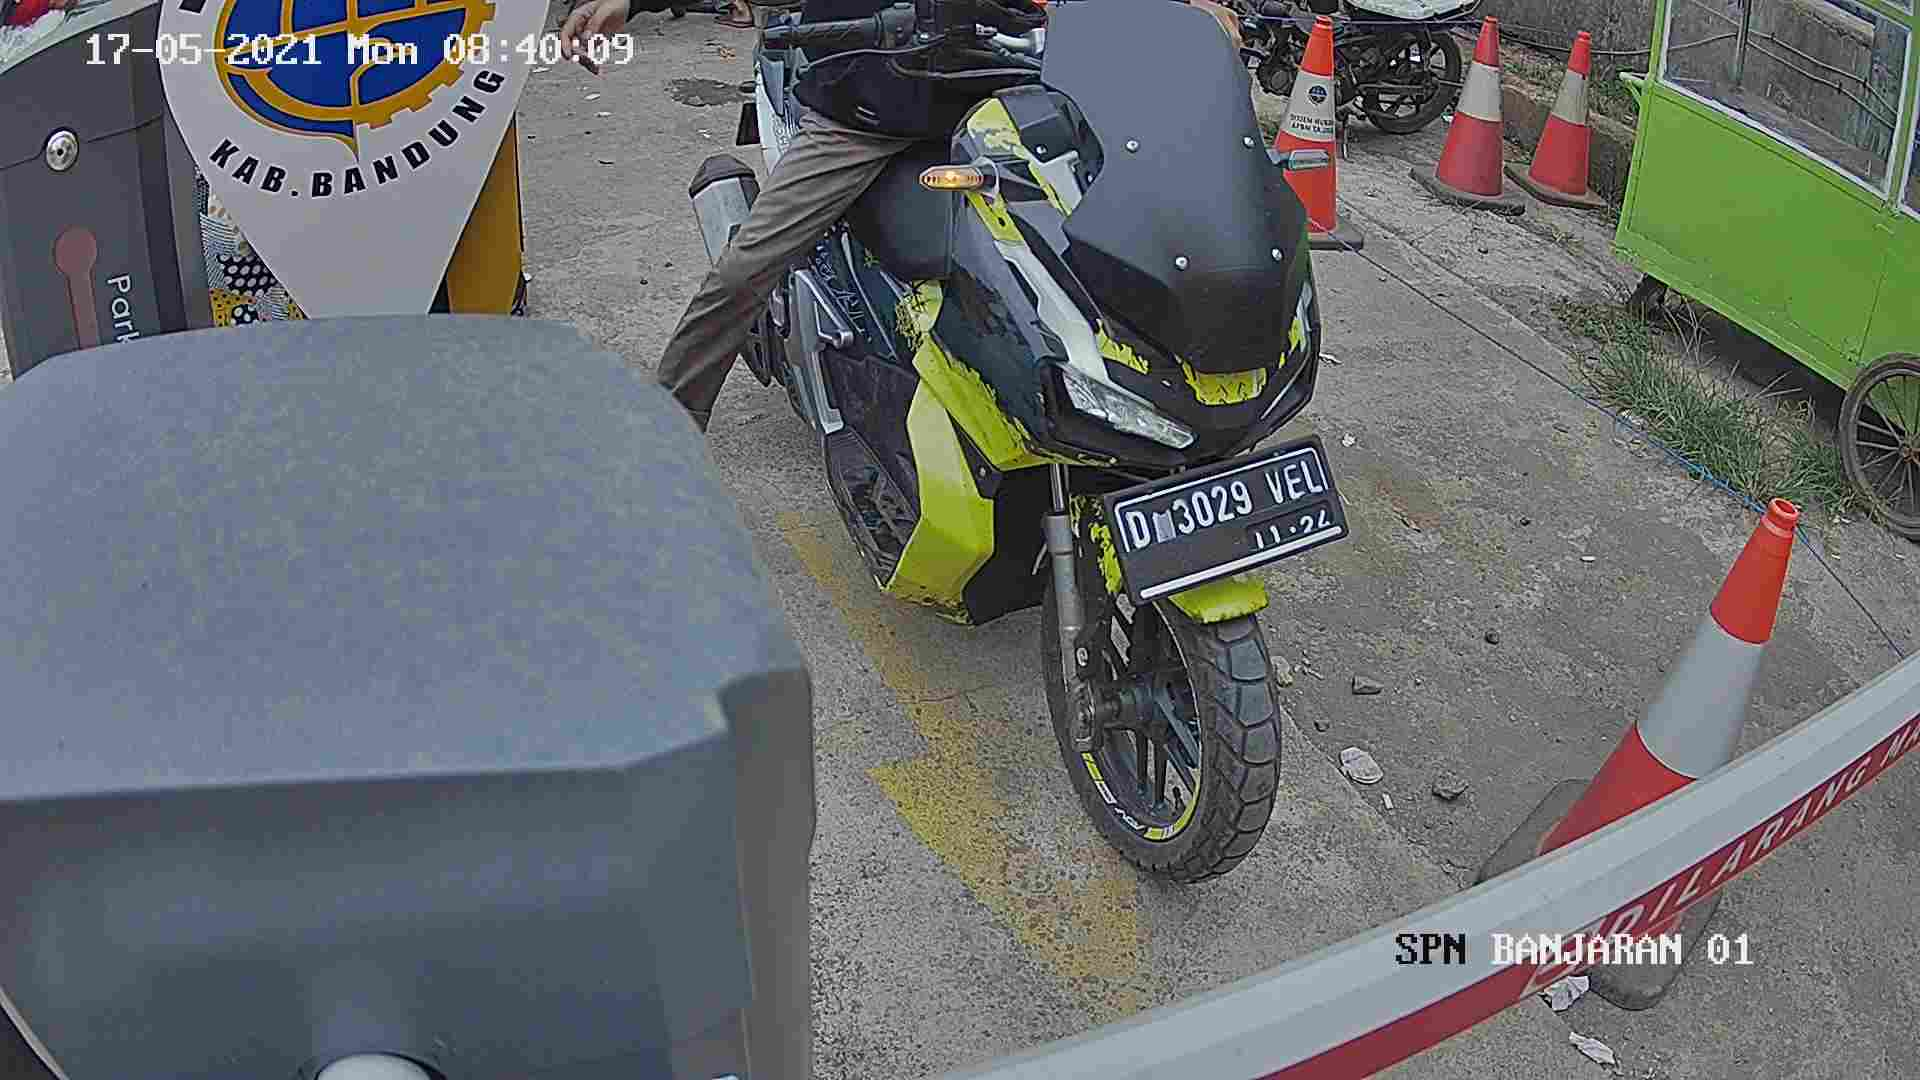motor: (649, 15, 1396, 837)
